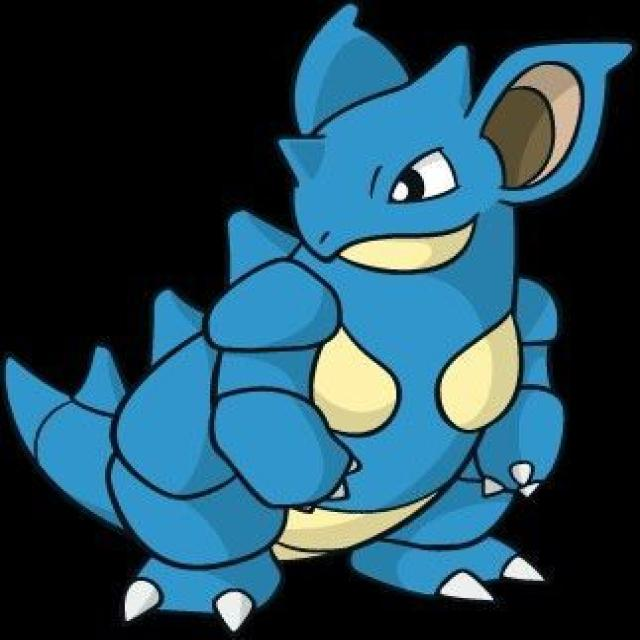Nidoqueen: (88, 15, 640, 640)
